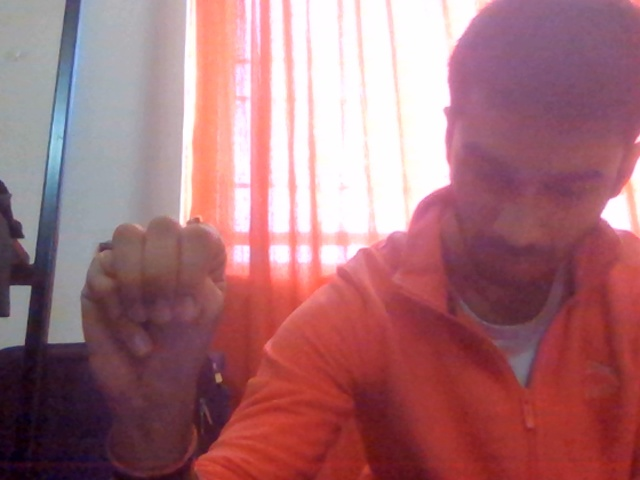M: (47, 176, 251, 466)
